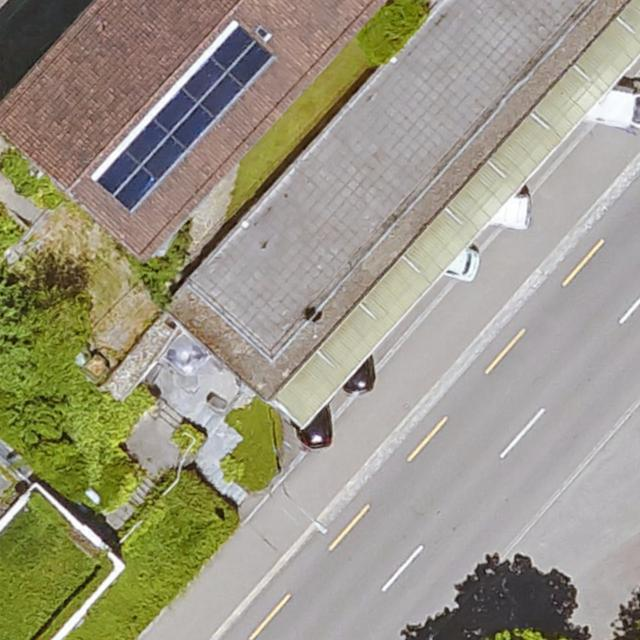tree: (482, 628, 571, 640)
